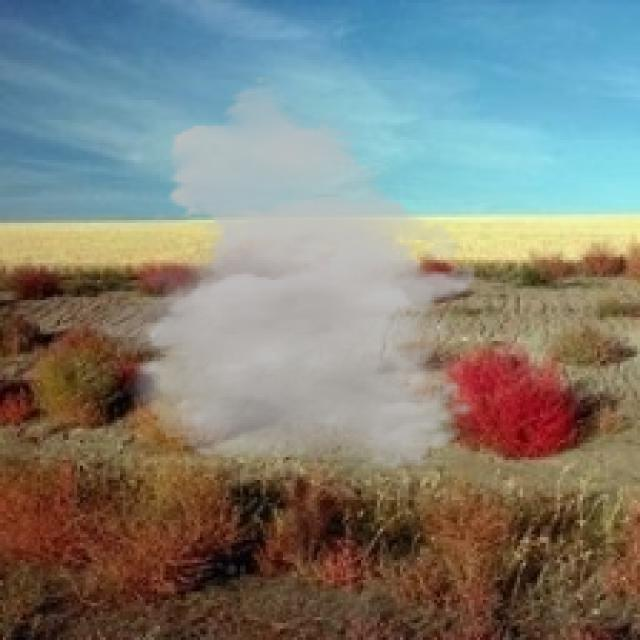smoke: (83, 74, 480, 472)
